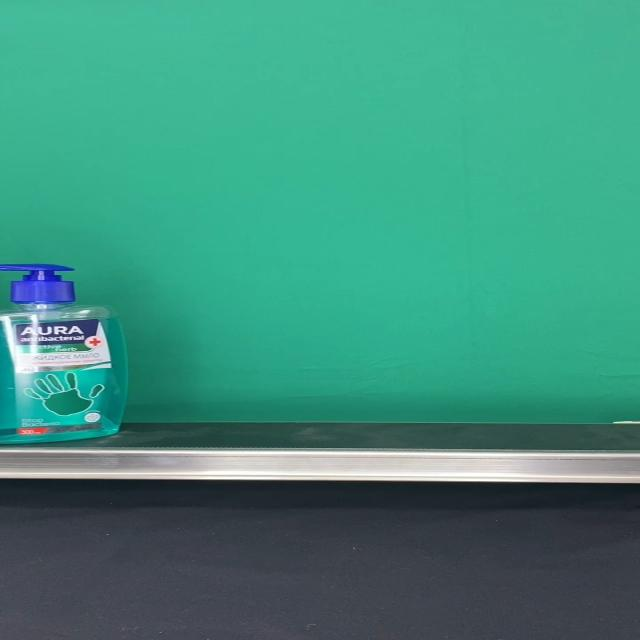Bottle: (0, 263, 129, 444)
Cap: (0, 263, 75, 305)
